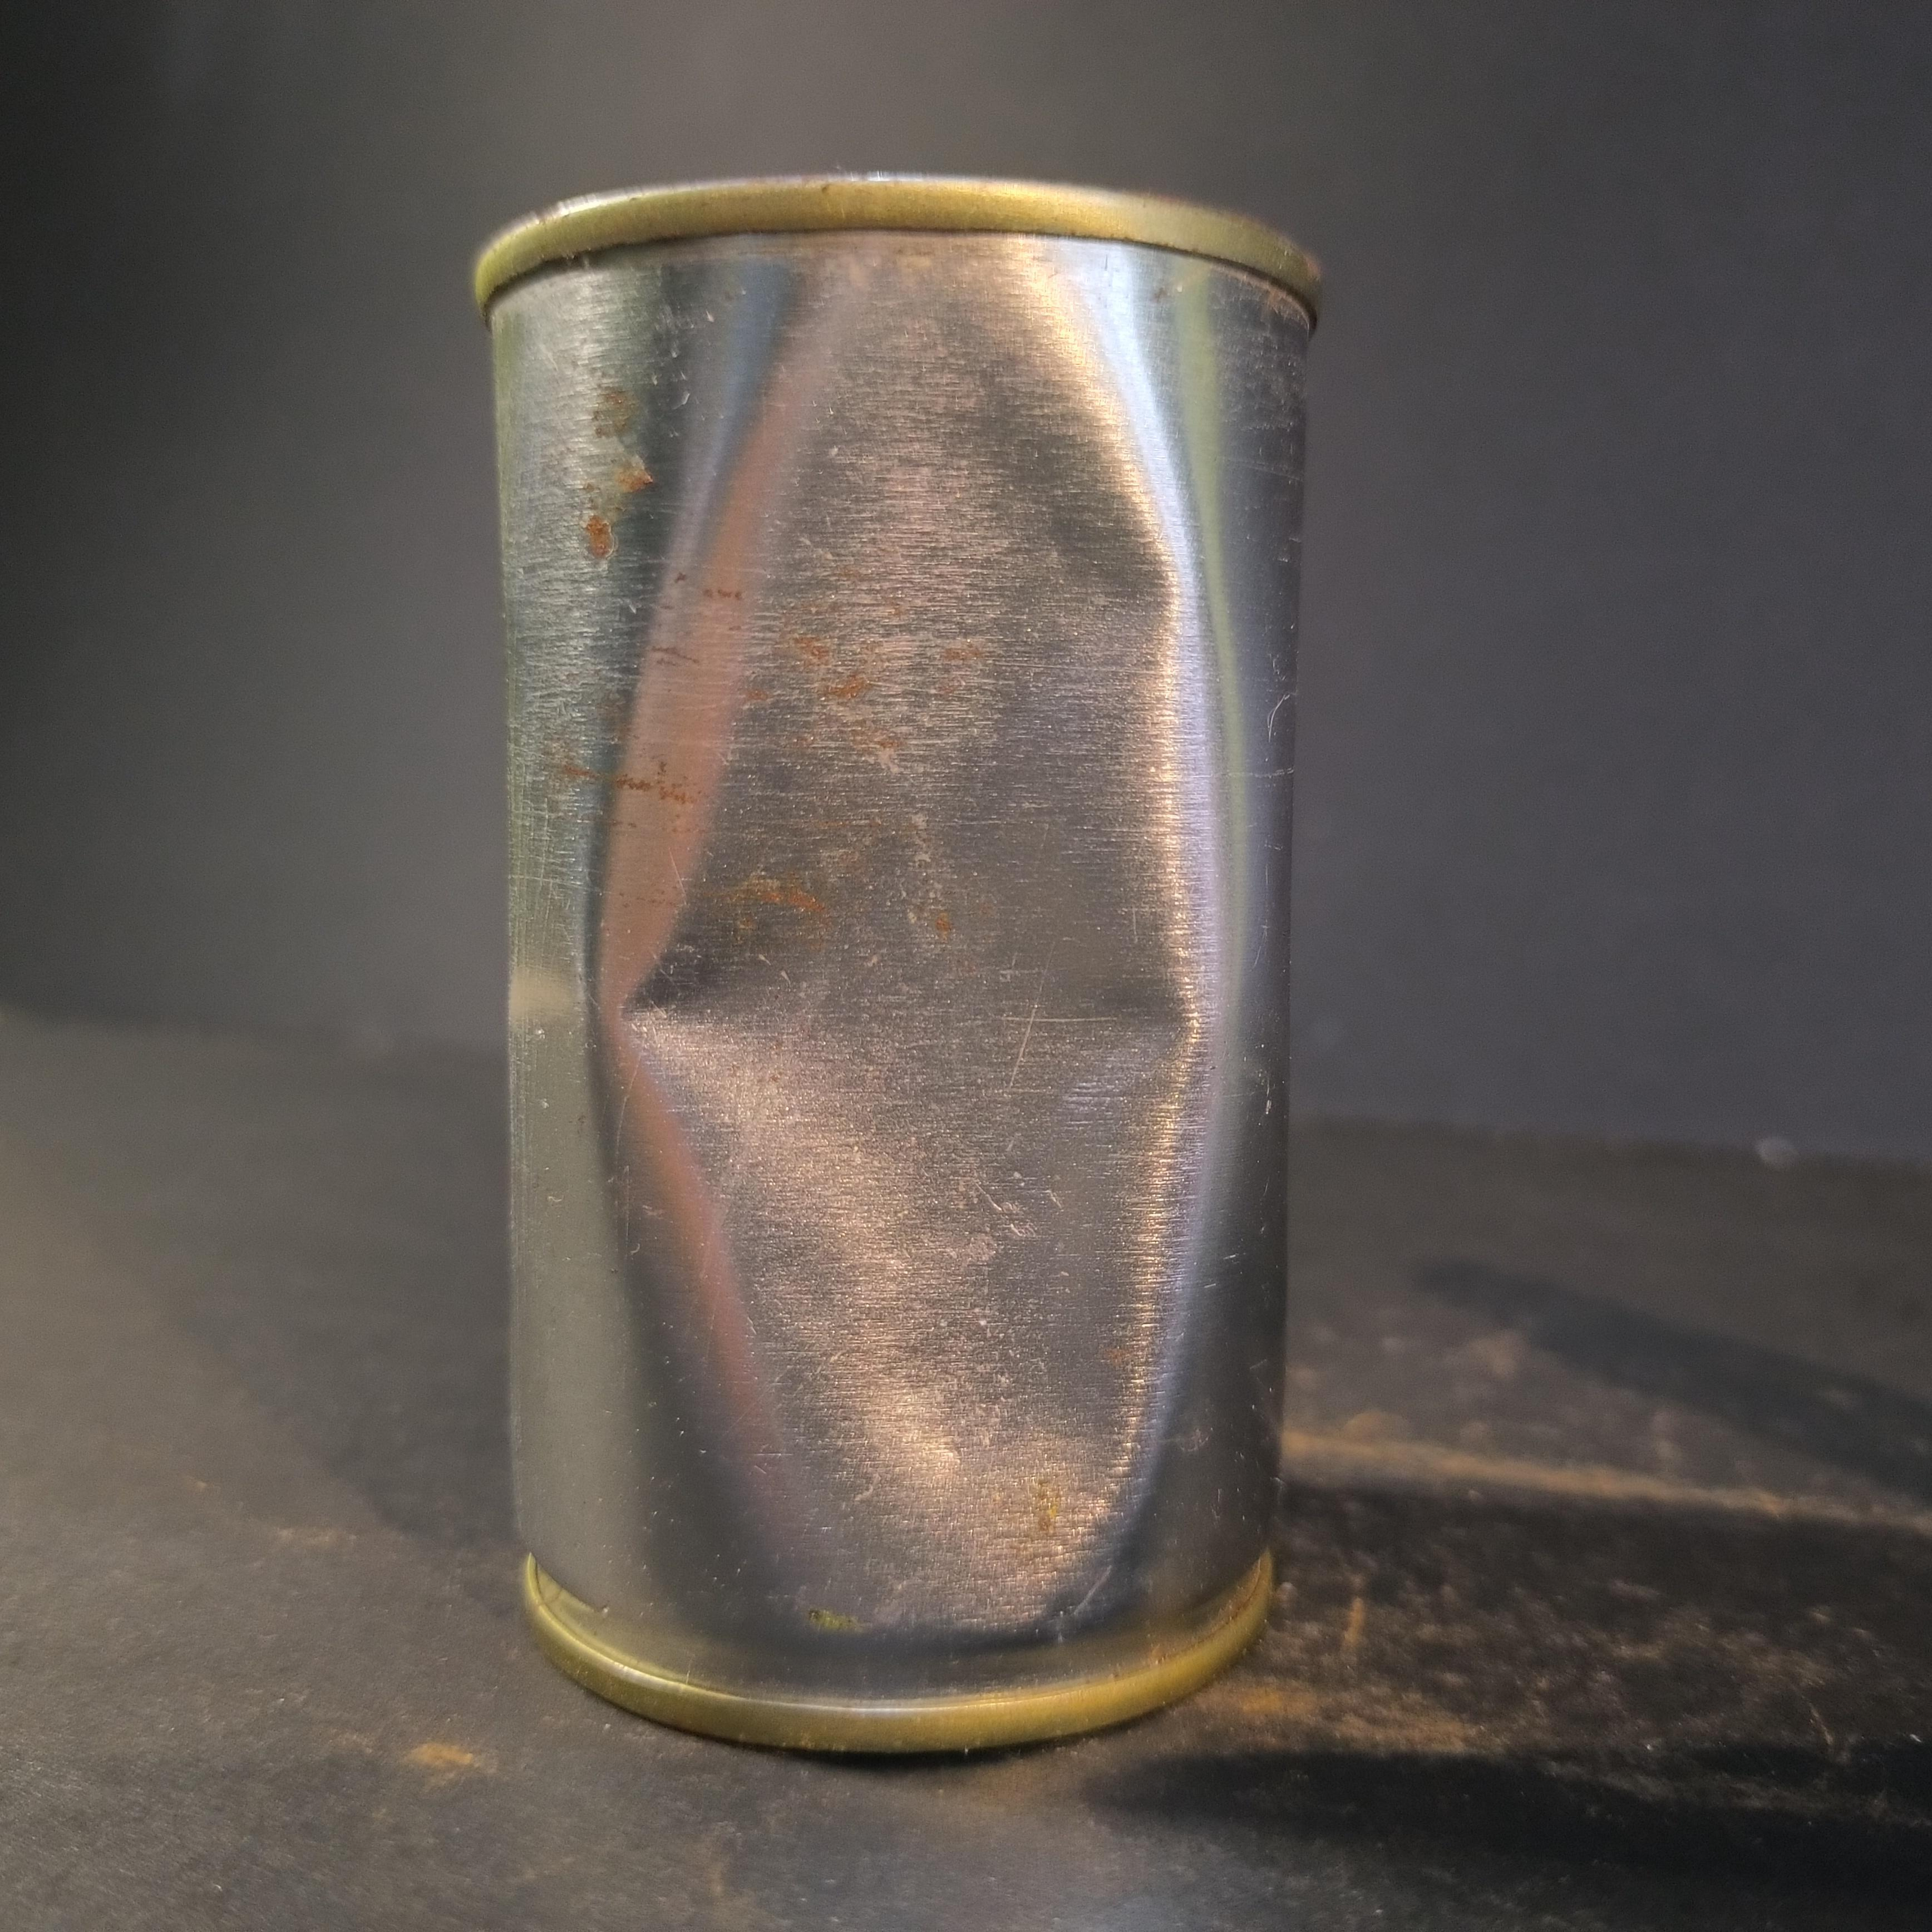Dented: (456, 136, 1313, 1772)
